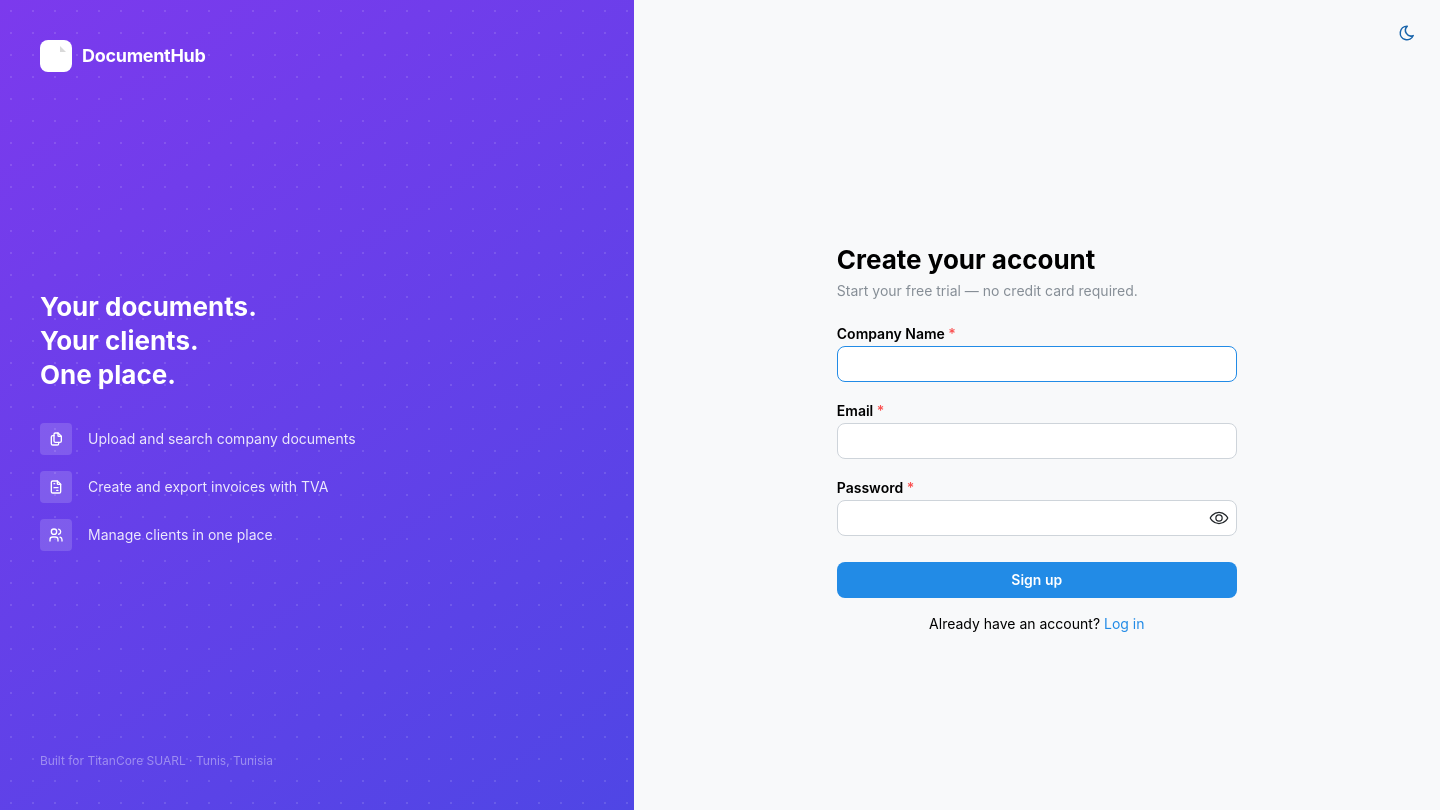
Test case: shows validation errors when submitting empty form
The width and height of the screenshot is (1440, 810).
Click the button "Sign up": click(1037, 580) x1=837 y1=562 x2=1237 y2=598
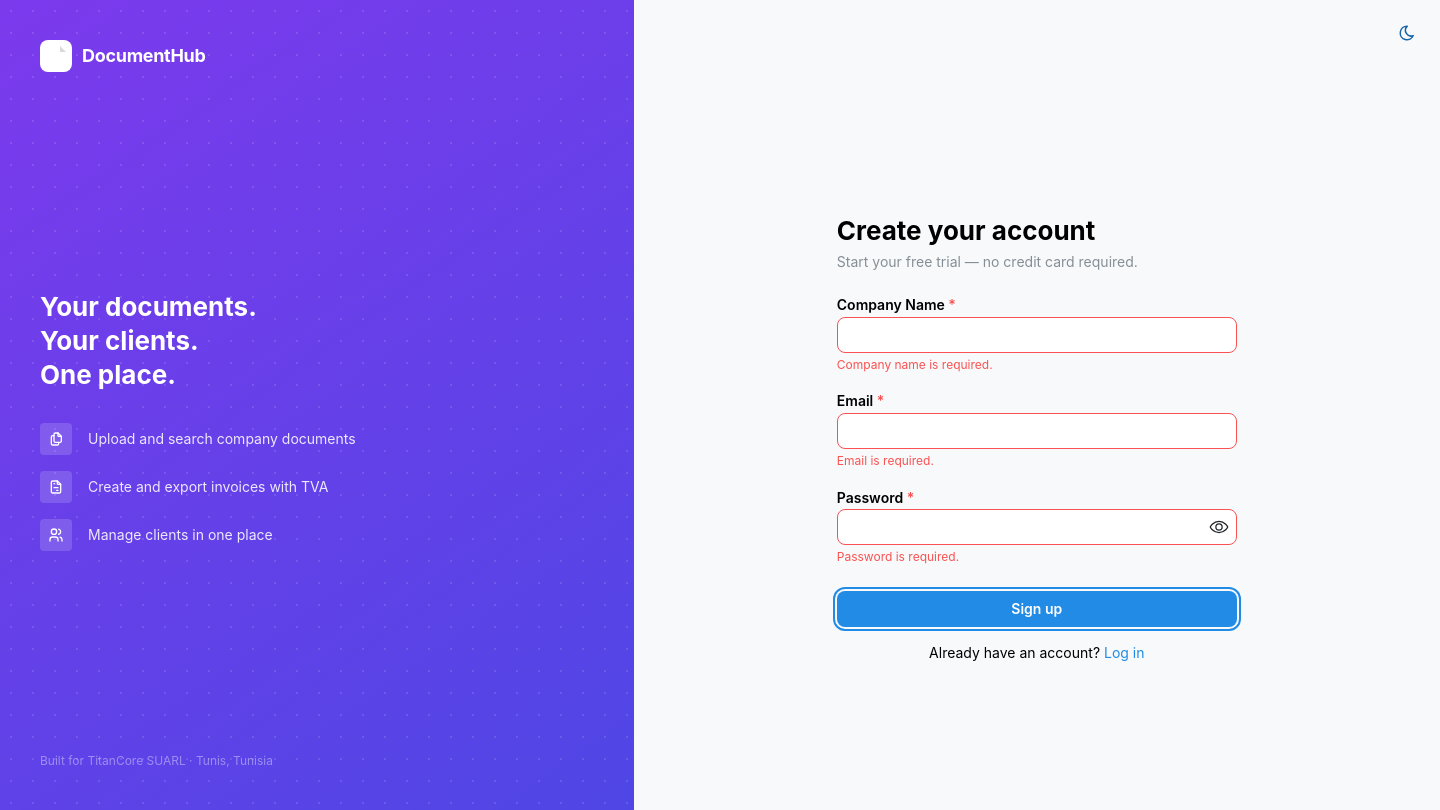
Expected: the text "Company name is required." is shown, x1=837 y1=357 x2=993 y2=372
Expected: the text "Email is required." is shown, x1=837 y1=453 x2=934 y2=468
Expected: the text "Password is required." is shown, x1=837 y1=549 x2=959 y2=564
